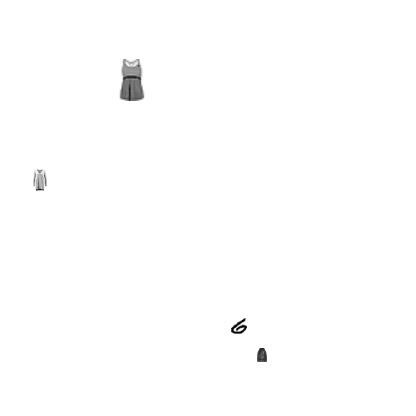6: (228, 316, 250, 338)
Coat: (255, 348, 269, 362)
Pullover: (29, 169, 51, 191)
T-shirt/top: (111, 59, 153, 101)
